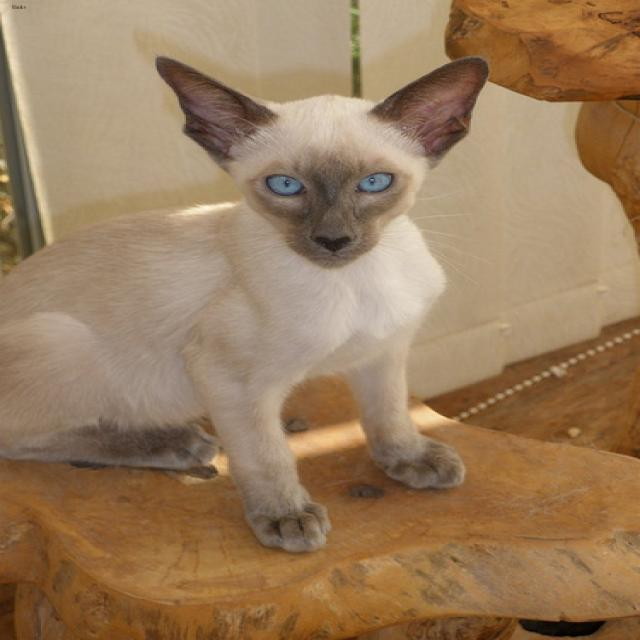Siamese: (152, 55, 486, 265)
